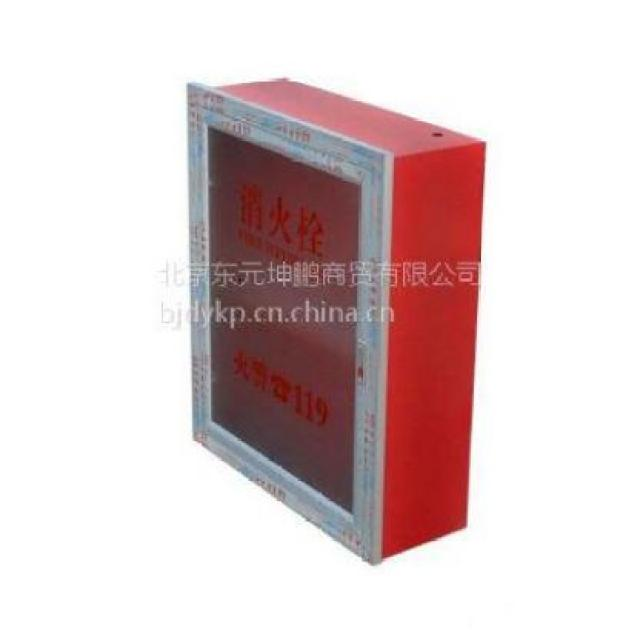firehydrant: (182, 72, 492, 573)
